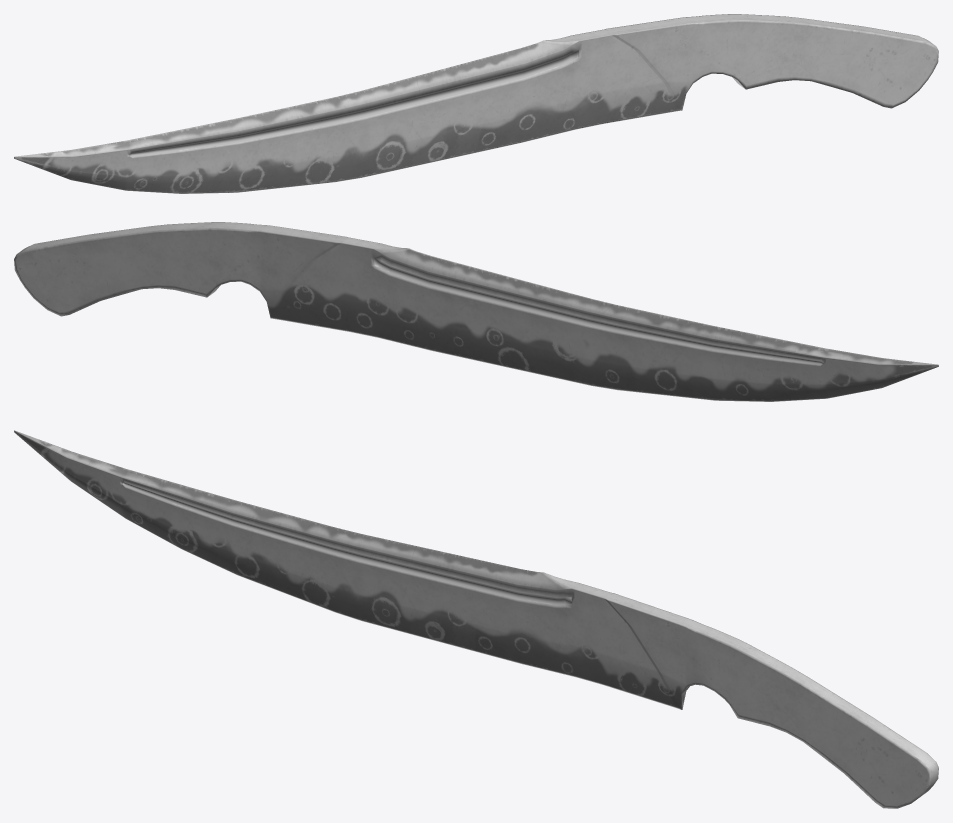
File: 1.1Blade.obj
3 views of the same model, one above another, from view 1: azimuth 30°, elevation 25°; view 2: azimuth 150°, elevation 25°; view 3: azimuth 330°, elevation 25° (orthographic).
Parts seen in each view (by area): view 1: Plane.010_Plane.021; view 2: Plane.010_Plane.021; view 3: Plane.010_Plane.021.
Boxes of the visible parts, box(x1,y1,x2,y2) form: Plane.010_Plane.021: box(14, 14, 938, 193); Plane.010_Plane.021: box(14, 222, 938, 401); Plane.010_Plane.021: box(14, 430, 938, 808).
Bounding box in the file's own units: 4.97 × 0.836 × 0.0772.
